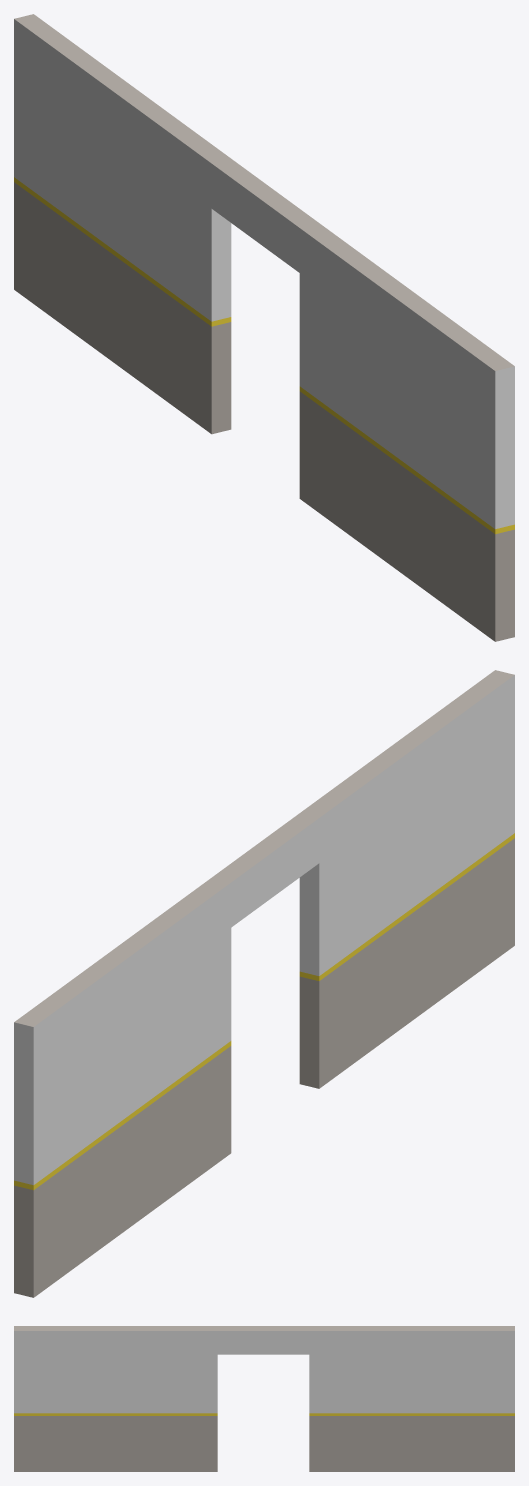
The model's file is CvsRR_Wall_Entrance.fbx.
3 renders of one model, top to bottom at view 1: azimuth 30°, elevation 25°; view 2: azimuth 150°, elevation 25°; view 3: azimuth 270°, elevation 25°, orthographic. The views are drawn at different scales.
Parts seen in each view (by area): view 1: CvsRR_Wall_Entrance; view 2: CvsRR_Wall_Entrance; view 3: CvsRR_Wall_Entrance.
Part boxes in pixels (x1,y1,x2,y2): CvsRR_Wall_Entrance: (14,14,514,641); CvsRR_Wall_Entrance: (14,670,514,1297); CvsRR_Wall_Entrance: (14,1326,514,1471).
Size of the model in its own units: 0.3469 by 4.55 by 14.65.
